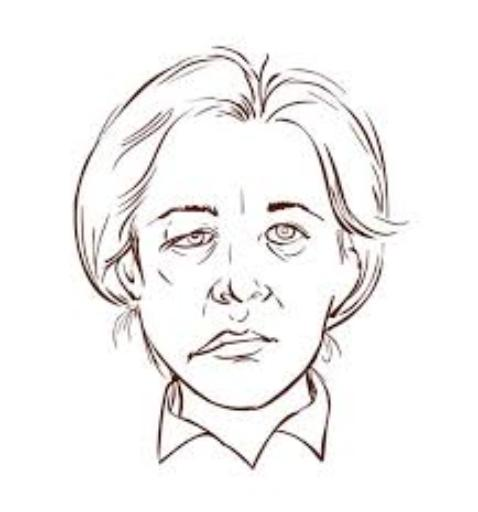left_eye: (265, 221, 314, 245)
left_lip_corner: (265, 333, 286, 352)
right_eye: (166, 229, 218, 250)
right_lip_corner: (190, 345, 214, 365)
